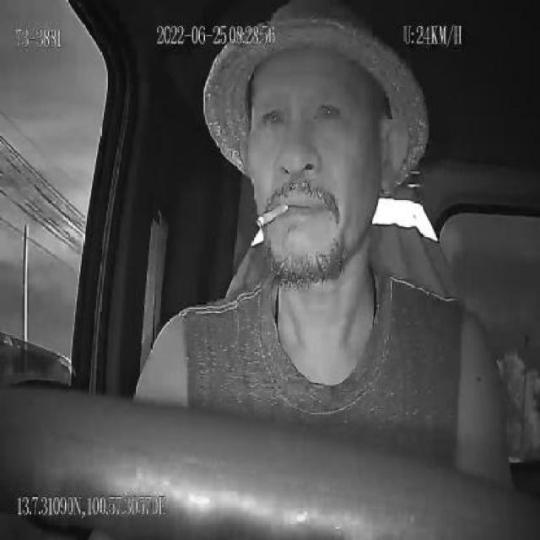smoking: (258, 200, 290, 228)
